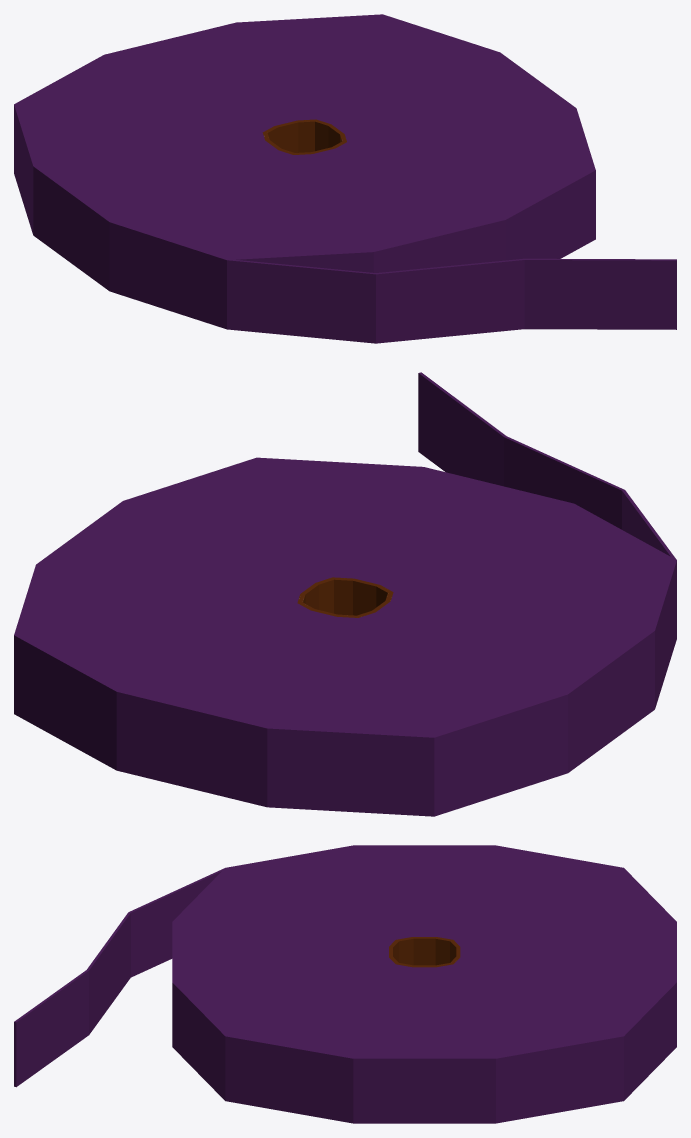
The model's file is ticket-roll.fbx.
3 views of the same model, one above another, from view 1: azimuth 30°, elevation 25°; view 2: azimuth 150°, elevation 25°; view 3: azimuth 270°, elevation 25° (orthographic). The views are drawn at different scales.
Parts seen in each view (by area): view 1: TicketRoll, CardboardRoll; view 2: TicketRoll, CardboardRoll; view 3: TicketRoll, CardboardRoll.
Boxes of the visible parts, x1,y1,x2,y2 form: TicketRoll: (14,14,676,343); CardboardRoll: (262,119,346,154); TicketRoll: (14,372,676,816); CardboardRoll: (297,577,393,617); TicketRoll: (14,845,676,1123); CardboardRoll: (389,937,460,967).
Size of the model in its own units: 18 by 2.55 by 23.64.
